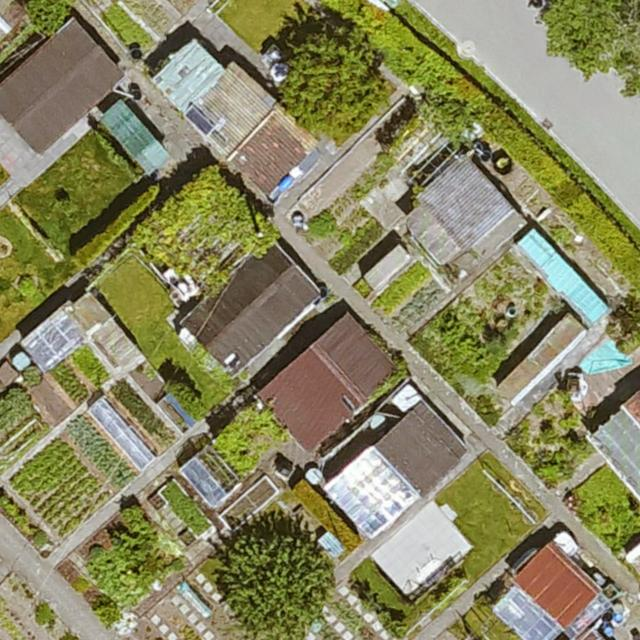tree: (224, 522, 334, 638), (273, 19, 381, 121), (533, 0, 640, 72)
